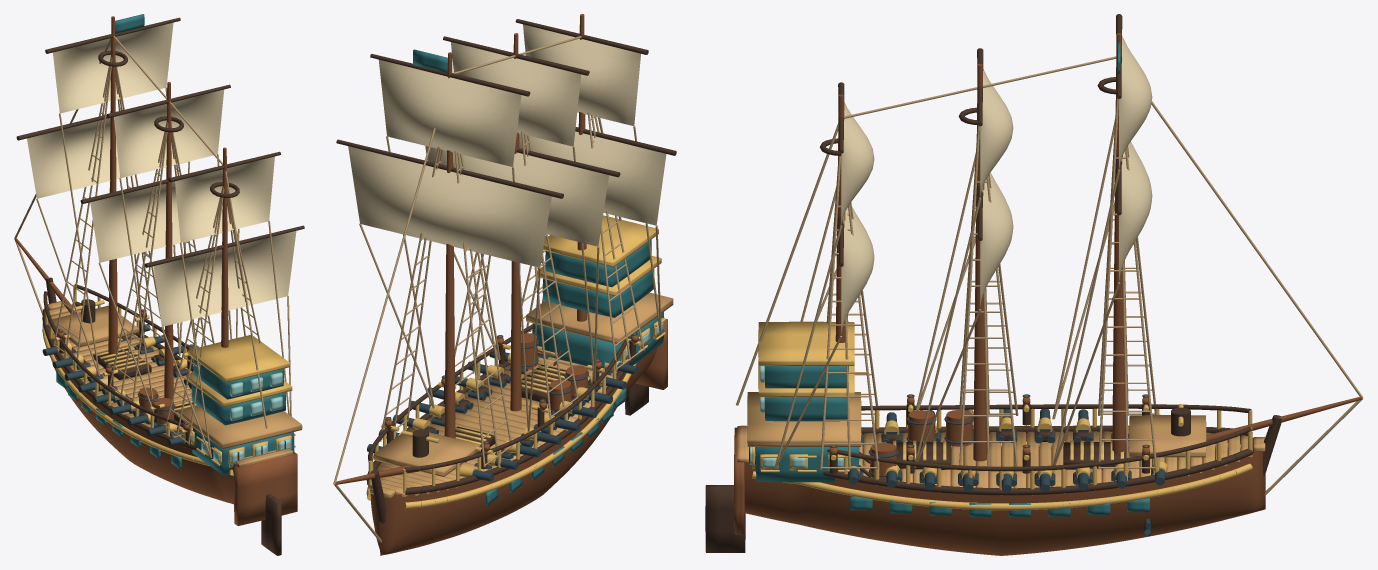
File: galleon.glb
3 views of the same model, side by side, from view 1: azimuth 30°, elevation 25°; view 2: azimuth 150°, elevation 25°; view 3: azimuth 270°, elevation 25° (orthographic). The views are drawn at different scales.
Visible parts, largest first — view 1: _MeshInstance3D_33, _MeshInstance3D_39, _MeshInstance3D_38, _MeshInstance3D_36, _MeshInstance3D_32, _MeshInstance3D_34, _MeshInstance3D_27, _MeshInstance3D_29, _MeshInstance3D_31, _MeshInstance3D_28, _MeshInstance3D_35, _MeshInstance3D_30 (+2 smaller); view 2: _MeshInstance3D_33, _MeshInstance3D_28, _MeshInstance3D_39, _MeshInstance3D_38, _MeshInstance3D_34, _MeshInstance3D_27, _MeshInstance3D_36, _MeshInstance3D_35, _MeshInstance3D_29, _MeshInstance3D_30, _MeshInstance3D_31, _MeshInstance3D_32 (+1 smaller); view 3: _MeshInstance3D_33, _MeshInstance3D_39, _MeshInstance3D_38, _MeshInstance3D_36, _MeshInstance3D_34, _MeshInstance3D_35, _MeshInstance3D_40, _MeshInstance3D_28, _MeshInstance3D_30, _MeshInstance3D_32, _MeshInstance3D_27, _MeshInstance3D_29 (+1 smaller).
Boxes of the visible parts, x1,y1,x2,y2 form: _MeshInstance3D_33: [14, 16, 297, 525]; _MeshInstance3D_39: [14, 36, 291, 457]; _MeshInstance3D_38: [16, 17, 304, 555]; _MeshInstance3D_36: [42, 284, 295, 475]; _MeshInstance3D_32: [153, 231, 296, 326]; _MeshInstance3D_34: [48, 301, 302, 466]; _MeshInstance3D_27: [53, 22, 173, 113]; _MeshInstance3D_29: [114, 89, 224, 177]; _MeshInstance3D_31: [175, 156, 274, 242]; _MeshInstance3D_28: [27, 118, 188, 198]; _MeshInstance3D_35: [56, 14, 294, 475]; _MeshInstance3D_30: [90, 181, 238, 262]; _MeshInstance3D_33: [335, 14, 667, 555]; _MeshInstance3D_28: [348, 146, 551, 267]; _MeshInstance3D_39: [333, 36, 661, 542]; _MeshInstance3D_38: [336, 19, 676, 523]; _MeshInstance3D_34: [368, 292, 673, 498]; _MeshInstance3D_27: [378, 59, 521, 166]; _MeshInstance3D_36: [366, 215, 665, 509]; _MeshInstance3D_35: [413, 49, 663, 505]; _MeshInstance3D_29: [451, 42, 581, 146]; _MeshInstance3D_30: [425, 146, 608, 246]; _MeshInstance3D_31: [523, 24, 640, 125]; _MeshInstance3D_32: [519, 131, 666, 225]; _MeshInstance3D_33: [734, 33, 1362, 555]; _MeshInstance3D_39: [736, 56, 1363, 495]; _MeshInstance3D_38: [705, 14, 1281, 552]; _MeshInstance3D_36: [752, 321, 1252, 510]; _MeshInstance3D_34: [737, 392, 1265, 488]; _MeshInstance3D_35: [755, 40, 1149, 517]; _MeshInstance3D_40: [829, 394, 1165, 536]; _MeshInstance3D_28: [1119, 141, 1152, 282]; _MeshInstance3D_30: [980, 172, 1013, 307]; _MeshInstance3D_32: [841, 207, 874, 334]; _MeshInstance3D_27: [1119, 35, 1152, 169]; _MeshInstance3D_29: [980, 69, 1013, 195].
Size of the model in its own units: 4.96 by 10.37 by 11.94.
